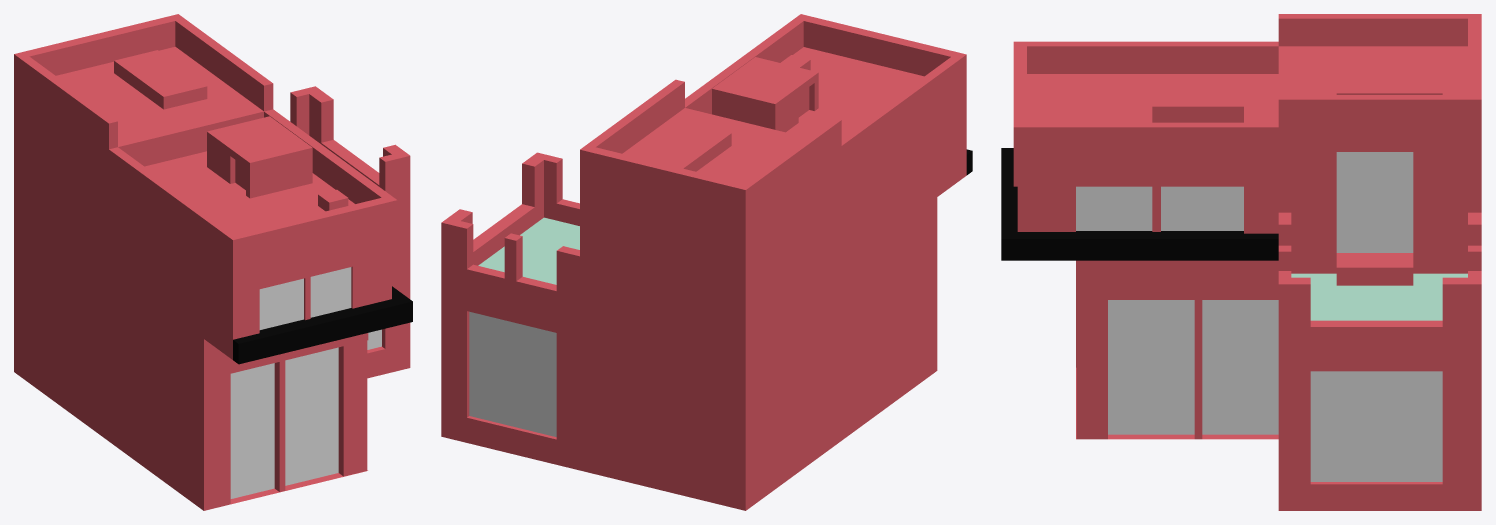
Rendered from rumah.fbx.
3 views of the same model, side by side, from view 1: azimuth 30°, elevation 25°; view 2: azimuth 150°, elevation 25°; view 3: azimuth 270°, elevation 25° (orthographic). The views are drawn at different scales.
Visible parts, largest first — view 1: Cube; view 2: Cube; view 3: Cube.
Part boxes in pixels (x1,y1,x2,y2): Cube: (14, 14, 412, 510); Cube: (441, 14, 972, 510); Cube: (1001, 14, 1481, 510).
Bounding box in the file's own units: 367 × 370 × 473.
